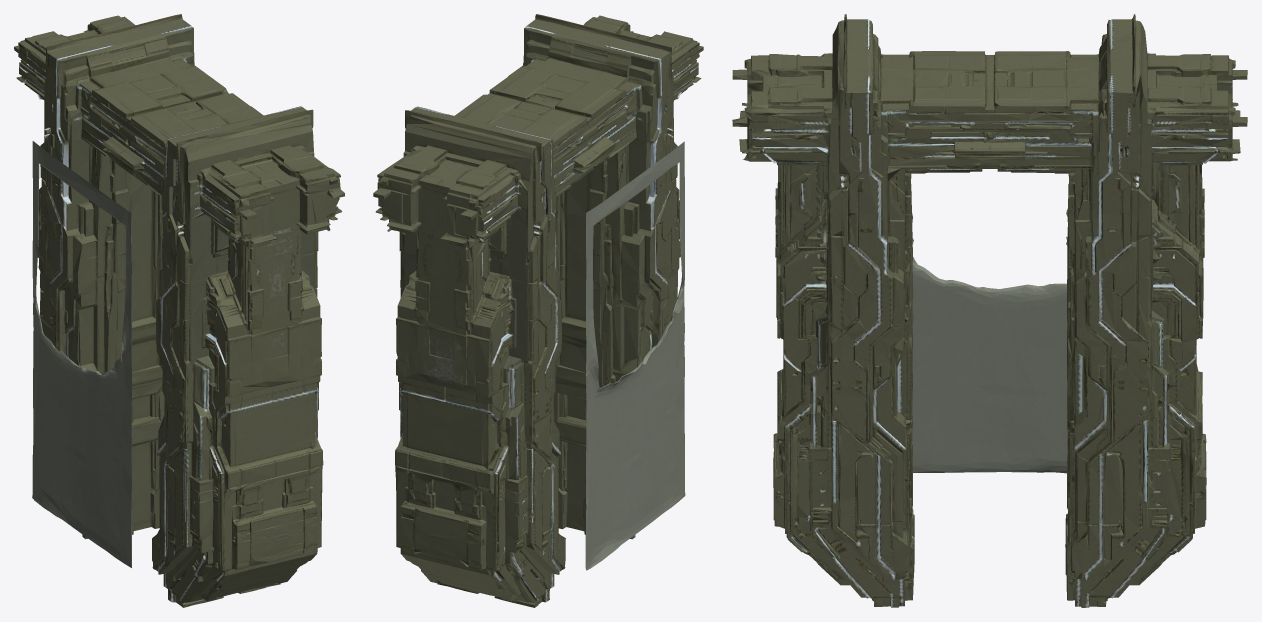
Rendered from Puerta1.glb.
3 views of the same model, side by side, from view 1: azimuth 30°, elevation 25°; view 2: azimuth 150°, elevation 25°; view 3: azimuth 270°, elevation 25° (orthographic). The views are drawn at different scales.
Visible parts, largest first — view 1: tripo_node_7fb49021-71a7-4c51-9dfa-d5e269d79758; view 2: tripo_node_7fb49021-71a7-4c51-9dfa-d5e269d79758; view 3: tripo_node_7fb49021-71a7-4c51-9dfa-d5e269d79758.
Part boxes in pixels (x1,y1,x2,y2): tripo_node_7fb49021-71a7-4c51-9dfa-d5e269d79758: [14, 14, 344, 607]; tripo_node_7fb49021-71a7-4c51-9dfa-d5e269d79758: [373, 14, 703, 607]; tripo_node_7fb49021-71a7-4c51-9dfa-d5e269d79758: [732, 14, 1247, 607].
Size of the model in its own units: 0.3673 by 0.9777 by 0.8604.
Materials: 1 (1 with a texture image).
